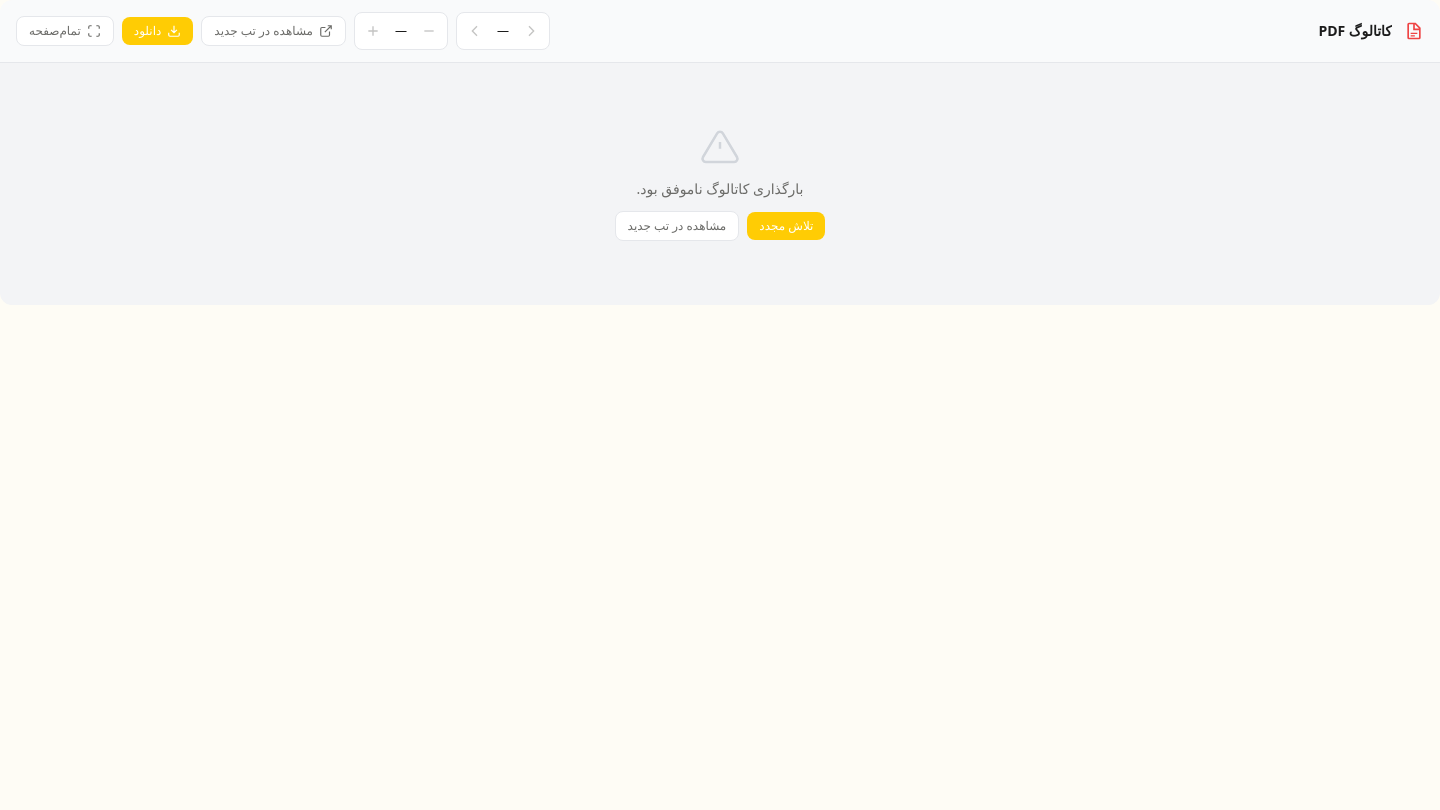
Scenario: PdfViewer — viewer states › retries loading after an error and recovers
The image size is (1440, 810).
Check: the message "بارگذاری کاتالوگ ناموفق بود. تلاش مجدد مشاهده در تب جدید" is shown, box [0,63,1439,305]
Click the button "تلاش مجدد".
click(786, 226)  # box [747,212,825,240]
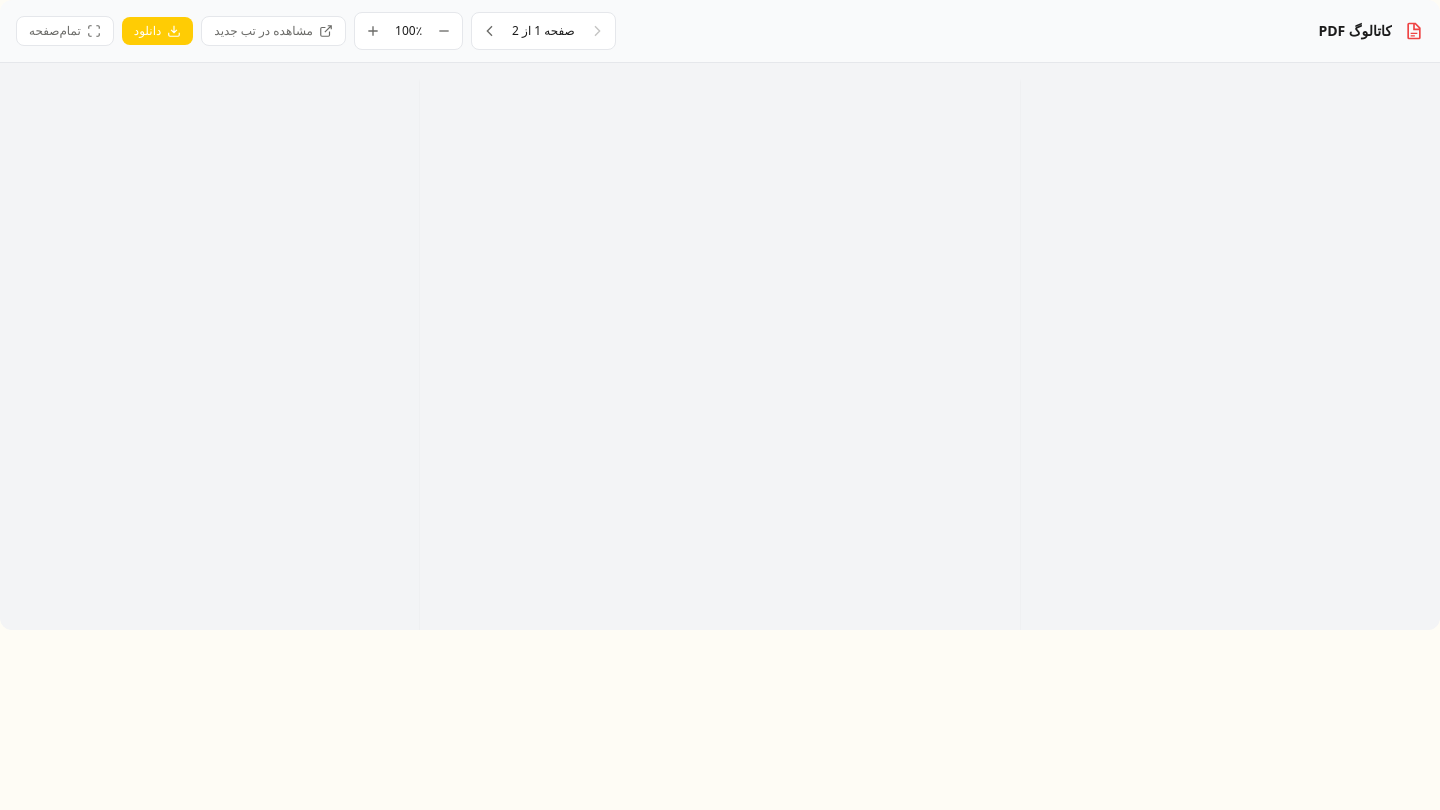
Check: the text "صفحه 1 از 2" is shown, box [508,23,579,39]
Check: the message "بارگذاری کاتالوگ ناموفق بود. تلاش مجدد مشاهده در تب جدید" is gone
